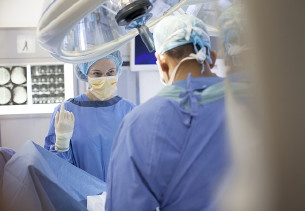Mask: (86, 66, 119, 98)
